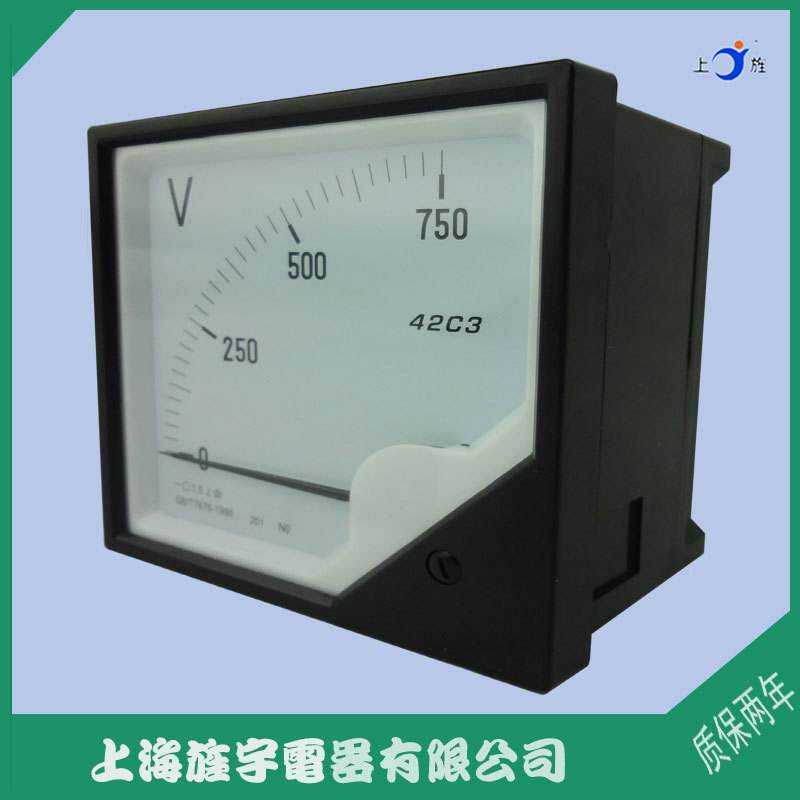pointer: (109, 96, 545, 600)
